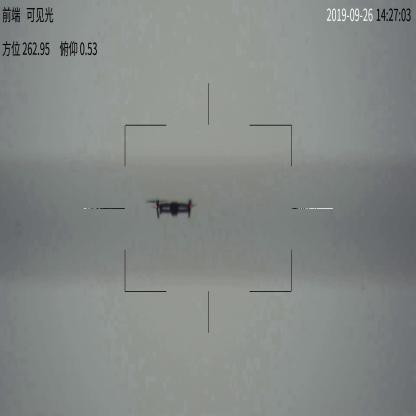uav: (149, 197, 197, 220)
